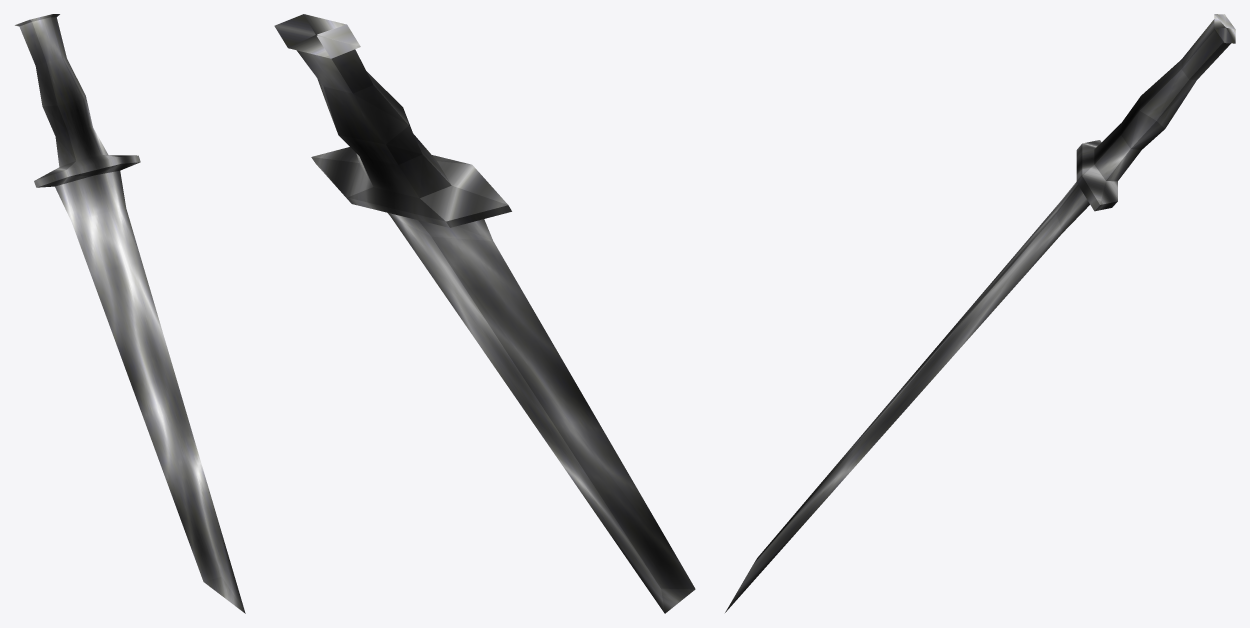
3 renders of one model, left to right at view 1: azimuth 30°, elevation 25°; view 2: azimuth 150°, elevation 25°; view 3: azimuth 270°, elevation 25°, orthographic. The views are drawn at different scales.
Parts seen in each view (by area): view 1: J1; view 2: J1; view 3: J1.
Part boxes in pixels (x1,y1,x2,y2): J1: (15, 14, 245, 613); J1: (274, 14, 695, 613); J1: (725, 14, 1235, 612).
Bounding box in the file's own units: 0.5615 × 2.35 × 1.86.
